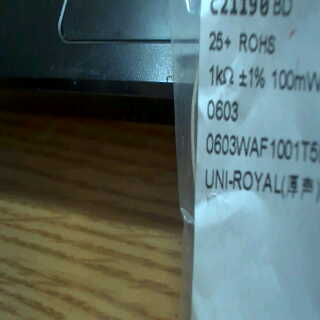1kR: (207, 64, 238, 87)
